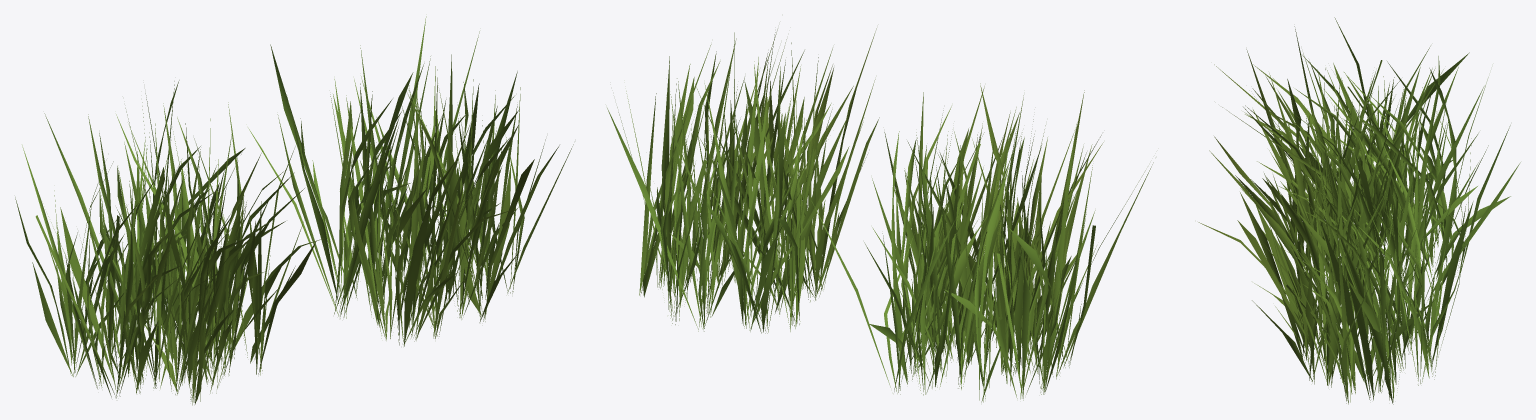
3 views of the same model, side by side, from view 1: azimuth 30°, elevation 25°; view 2: azimuth 150°, elevation 25°; view 3: azimuth 270°, elevation 25° (orthographic). The views are drawn at different scales.
Parts seen in each view (by area): view 1: Wild Grass Patch 2, Wild Grass Patch 3; view 2: Wild Grass Patch 2, Wild Grass Patch 3; view 3: Wild Grass Patch 3, Wild Grass Patch 2.
Part boxes in pixels (x1,y1,x2,y2): Wild Grass Patch 2: (15, 80, 323, 405); Wild Grass Patch 3: (248, 16, 573, 346); Wild Grass Patch 2: (811, 83, 1153, 402); Wild Grass Patch 3: (607, 28, 879, 333); Wild Grass Patch 3: (1198, 135, 1520, 404); Wild Grass Patch 2: (1214, 17, 1510, 285).
Bounding box in the file's own units: 1.85 × 0.9436 × 1.22.
